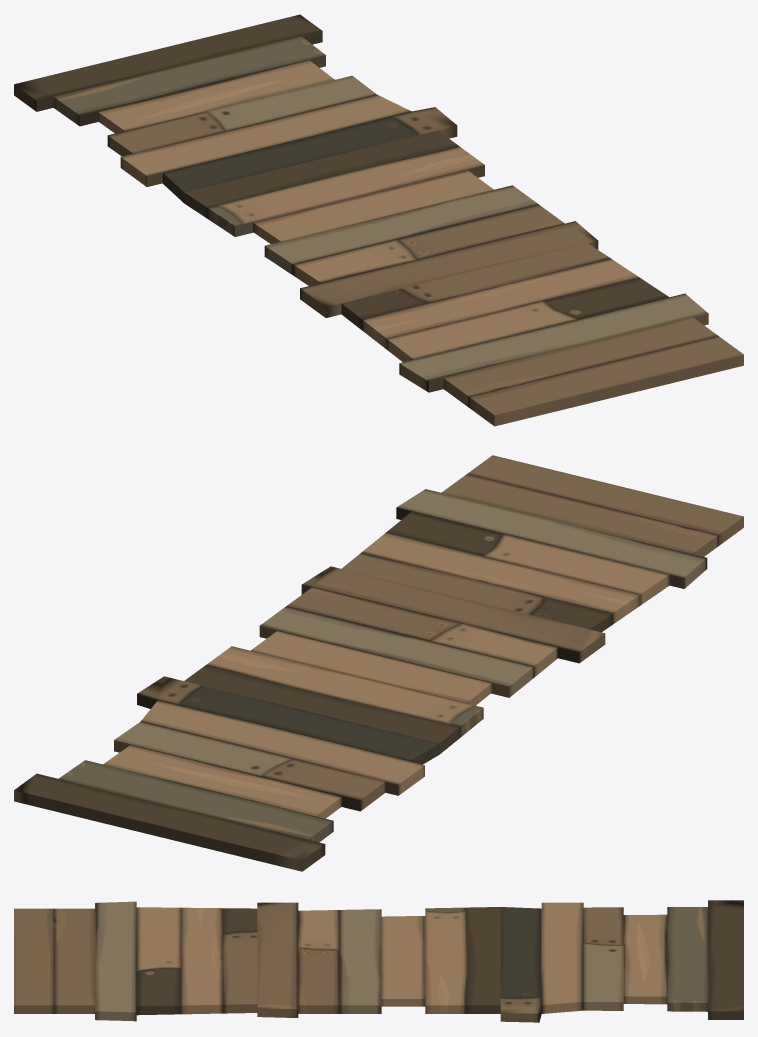
File: SM_Bld_Dock_Long_01.fbx
3 views of the same model, one above another, from view 1: azimuth 30°, elevation 25°; view 2: azimuth 150°, elevation 25°; view 3: azimuth 270°, elevation 25° (orthographic). The views are drawn at different scales.
Parts seen in each view (by area): view 1: SM_Bld_Dock_Long_01; view 2: SM_Bld_Dock_Long_01; view 3: SM_Bld_Dock_Long_01.
Part boxes in pixels (bbox=[...]): SM_Bld_Dock_Long_01: bbox=[14, 14, 743, 426]; SM_Bld_Dock_Long_01: bbox=[14, 455, 743, 871]; SM_Bld_Dock_Long_01: bbox=[14, 900, 743, 1022].
Bounding box in the file's own units: 275 × 9.97 × 748.
